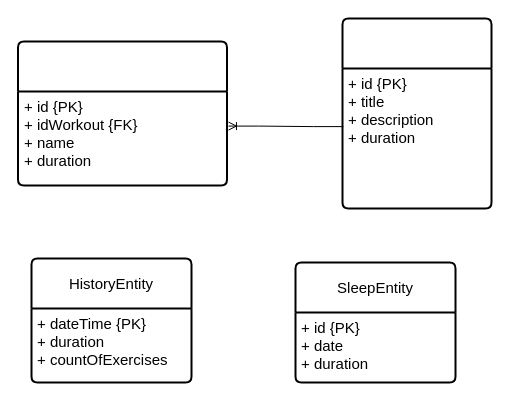
Some shapes in this 510 by 400 pixel diagram are drawn without their labels. Here are the shapes that lost their labels. From the top down, the box of each, then its label:
(16, 40, 228, 186): ExerciseEntity
(341, 17, 492, 209): WorkoutEntity
